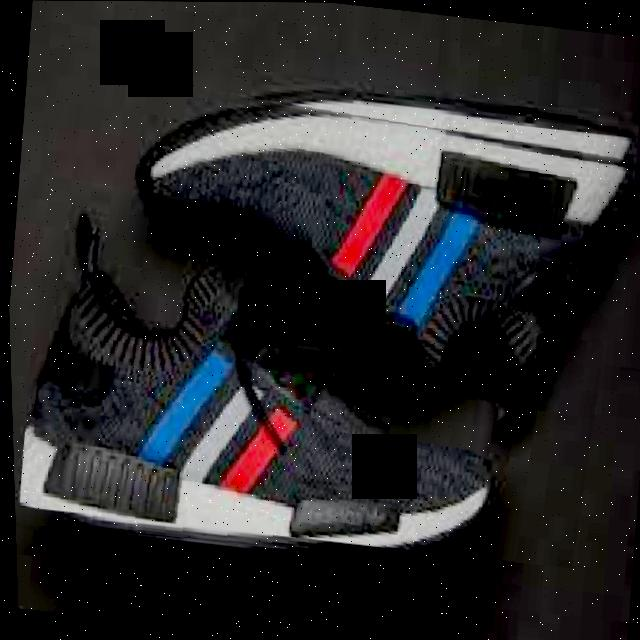shoe: (6, 64, 640, 571), (5, 200, 531, 576)
